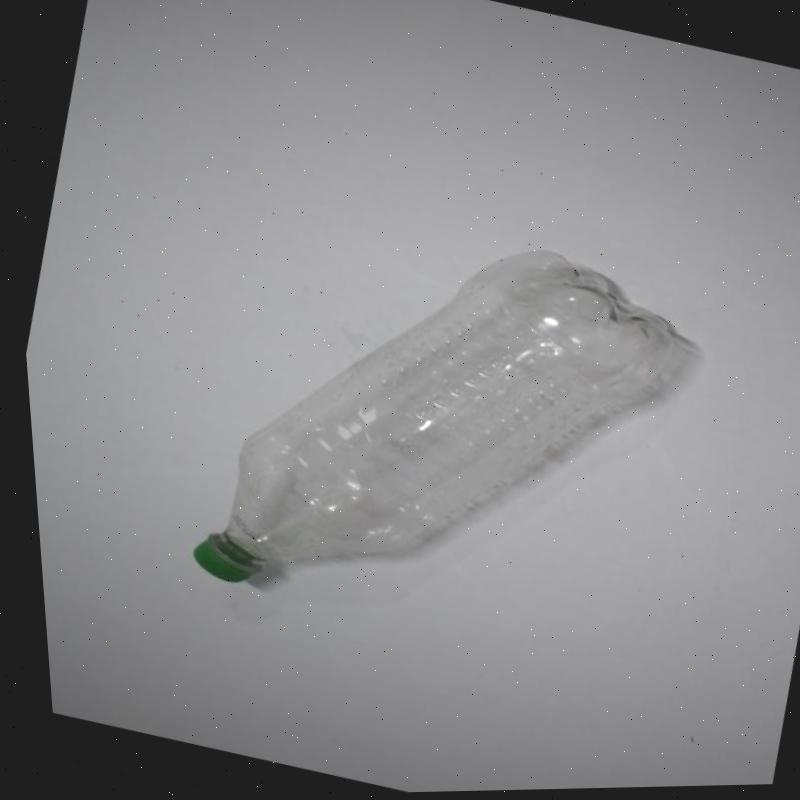botella: (156, 179, 717, 679)
